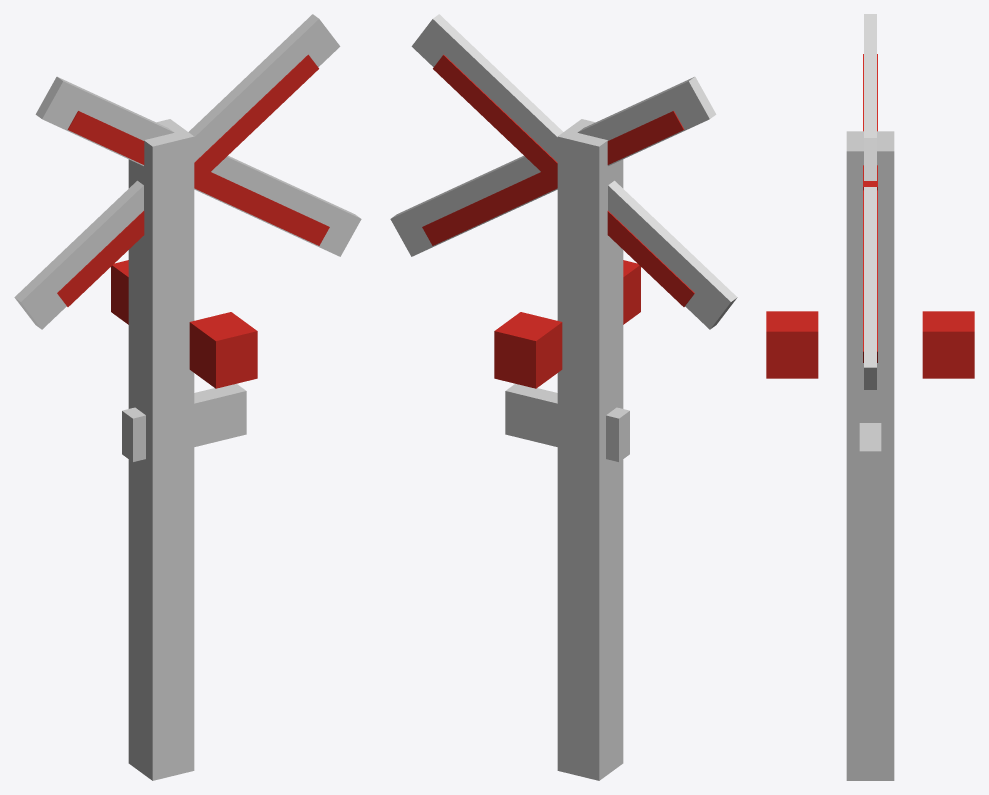
The model's file is cruce_ferroviario.obj.
3 renders of one model, left to right at view 1: azimuth 30°, elevation 25°; view 2: azimuth 150°, elevation 25°; view 3: azimuth 270°, elevation 25°, orthographic.
Visible parts, largest first — view 1: cruce_ferroviario; view 2: cruce_ferroviario; view 3: cruce_ferroviario.
Part boxes in pixels (x1,y1,x2,y2): cruce_ferroviario: (14, 14, 361, 780); cruce_ferroviario: (390, 14, 737, 780); cruce_ferroviario: (766, 14, 974, 780).
Bounding box in the file's own units: 1.8 × 3.6 × 0.96.
